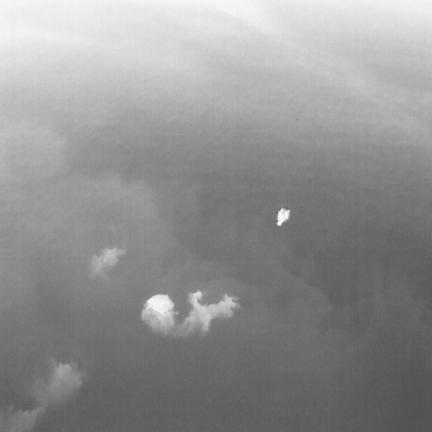flukeprints: (182, 291, 239, 331), (35, 362, 84, 404), (90, 247, 125, 276), (142, 294, 174, 321), (277, 208, 290, 226)
